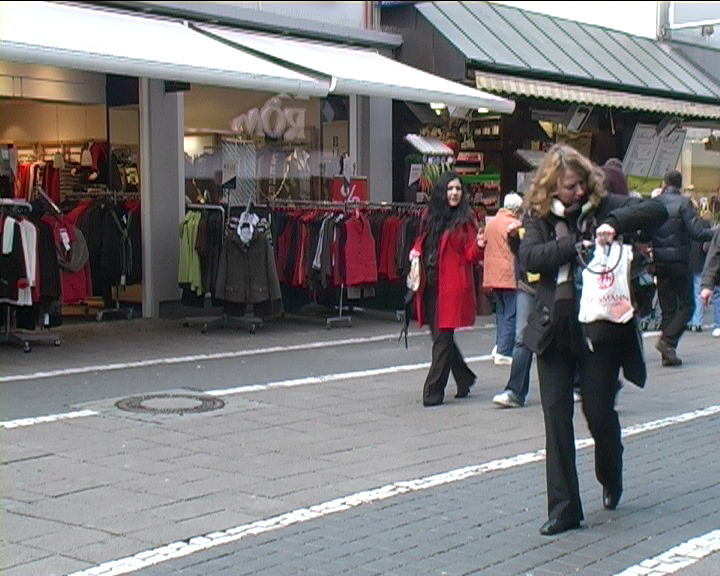deflection: (516, 144, 649, 235), (417, 168, 483, 234)
